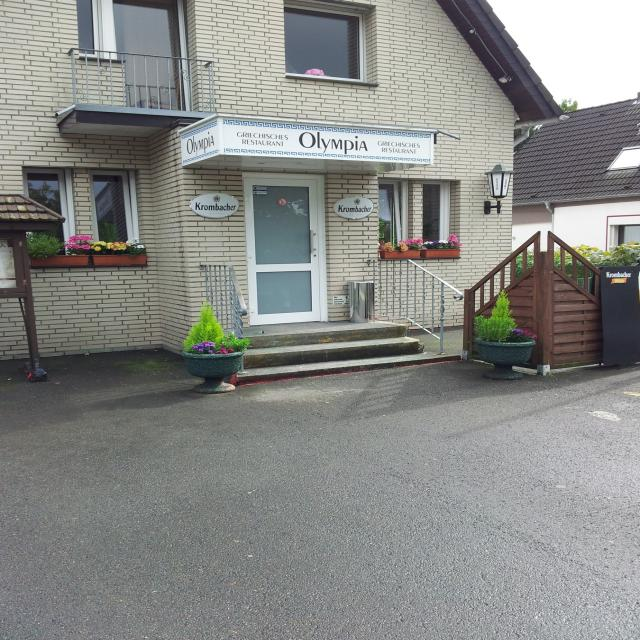AVOID: (218, 330, 456, 383)
